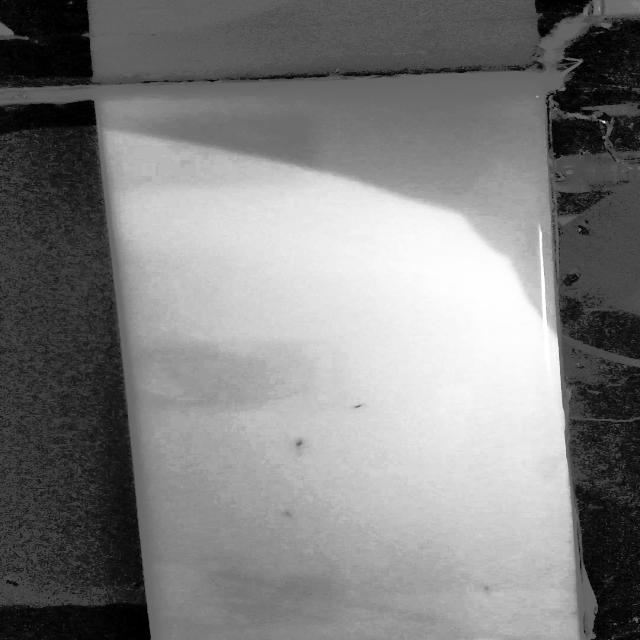shrimp: (329, 394, 387, 418), (274, 431, 320, 456)
